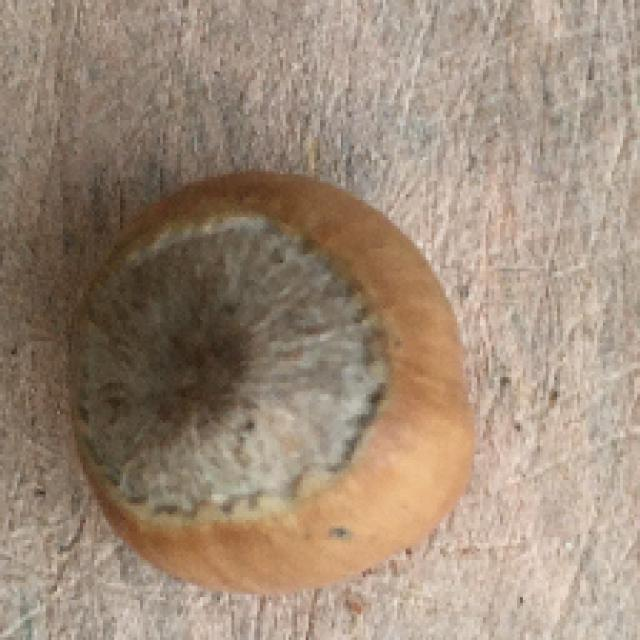qualityHazelnut: (83, 168, 480, 604)
